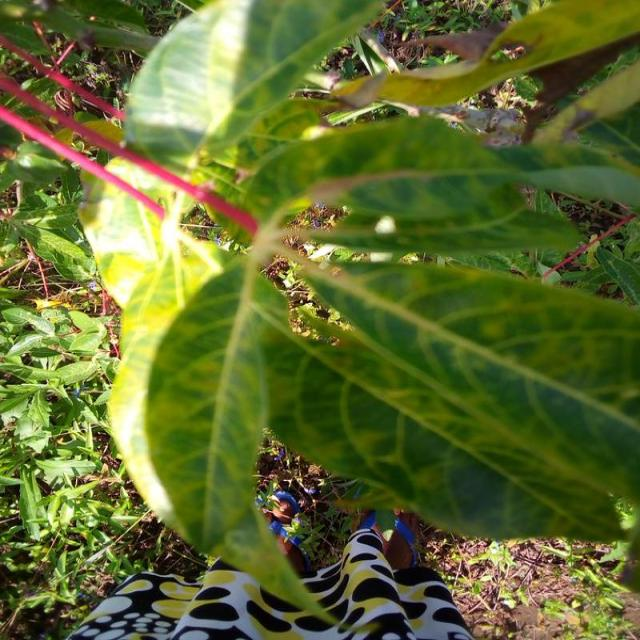cassava leaf: (77, 1, 638, 596), (141, 252, 638, 572), (121, 0, 387, 173)
